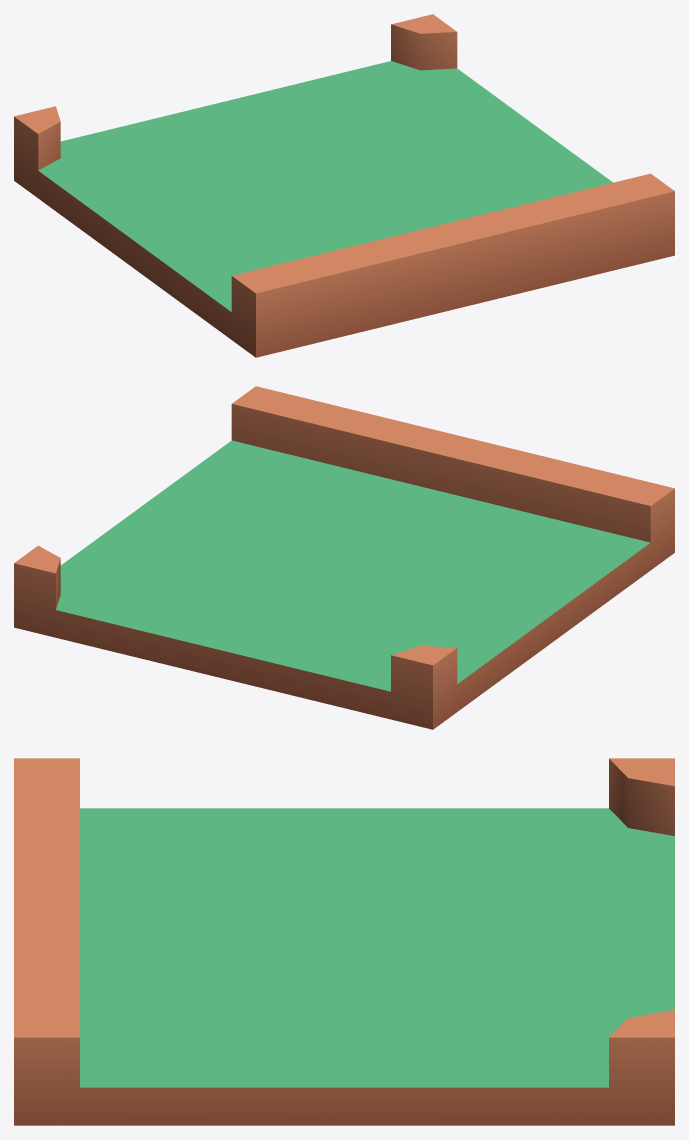
The model's file is split-t.glb.
The picture shows the model from 3 angles, top to bottom: view 1: azimuth 30°, elevation 25°; view 2: azimuth 150°, elevation 25°; view 3: azimuth 270°, elevation 25°; orthographic projection. The views are drawn at different scales.
Parts seen in each view (by area): view 1: split-t; view 2: split-t; view 3: split-t.
Part boxes in pixels (bbox=[...]): split-t: bbox=[14, 14, 674, 357]; split-t: bbox=[14, 386, 674, 729]; split-t: bbox=[14, 758, 674, 1125].
Bounding box in the file's own units: 0.9999 × 0.1467 × 0.9999.
Materials: 1 (1 with a texture image).
